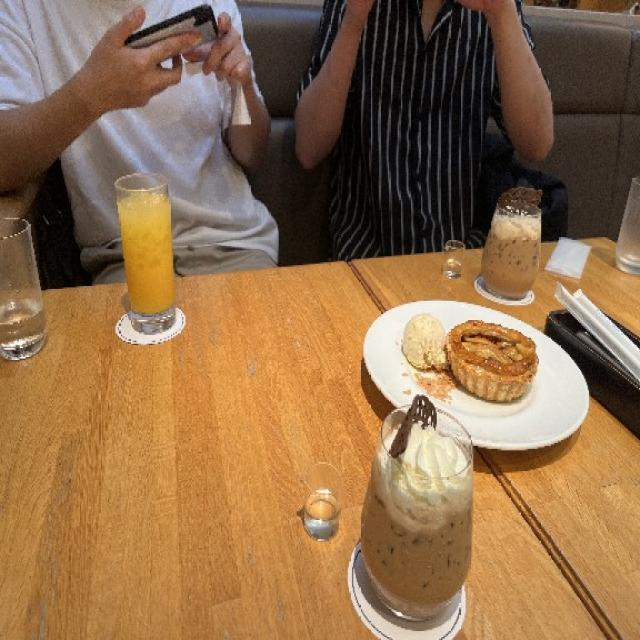Cup: (359, 401, 473, 621), (114, 170, 176, 334), (482, 192, 544, 304), (0, 216, 47, 360), (299, 467, 350, 550), (614, 176, 639, 274), (441, 239, 465, 277)
Plate: (362, 298, 589, 450)
